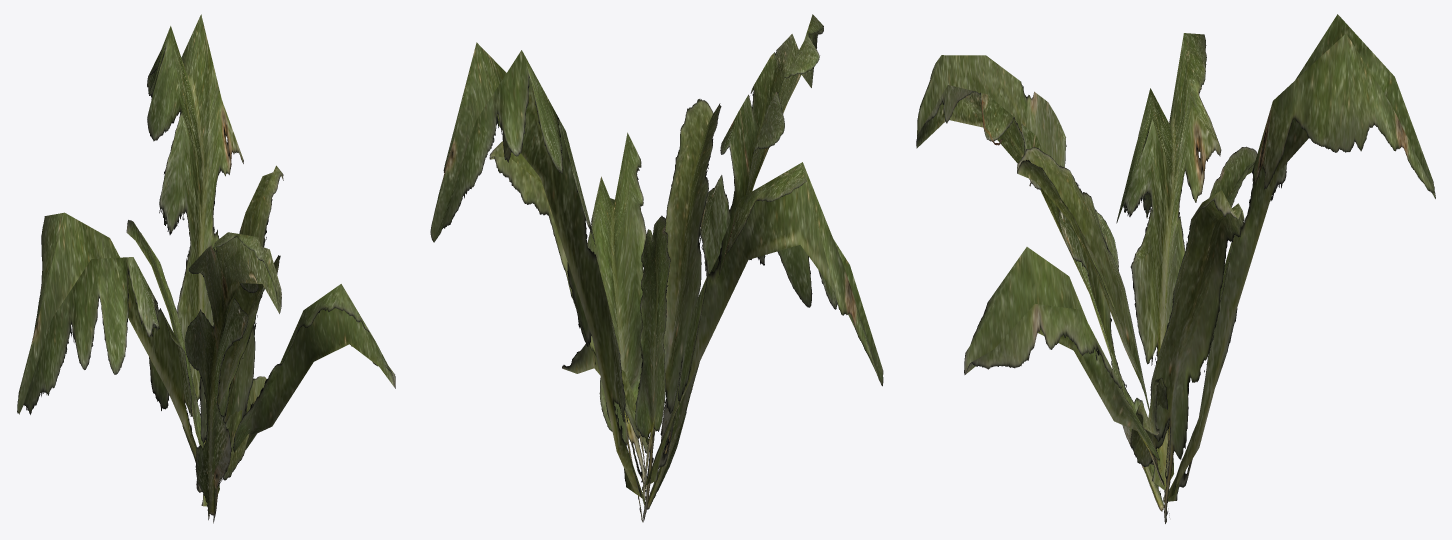
Rendered from flower_gazania_b.fbx.
3 views of the same model, side by side, from view 1: azimuth 30°, elevation 25°; view 2: azimuth 150°, elevation 25°; view 3: azimuth 270°, elevation 25° (orthographic). The views are drawn at different scales.
Parts seen in each view (by area): view 1: flower_gazania_b; view 2: flower_gazania_b; view 3: flower_gazania_b.
Boxes of the visible parts, box(x1,y1,x2,y2) form: flower_gazania_b: box(17, 14, 395, 523); flower_gazania_b: box(430, 14, 883, 522); flower_gazania_b: box(916, 14, 1435, 523).
Size of the model in its own units: 0.2149 by 0.3 by 0.2684.
1 material, 1 textured.
